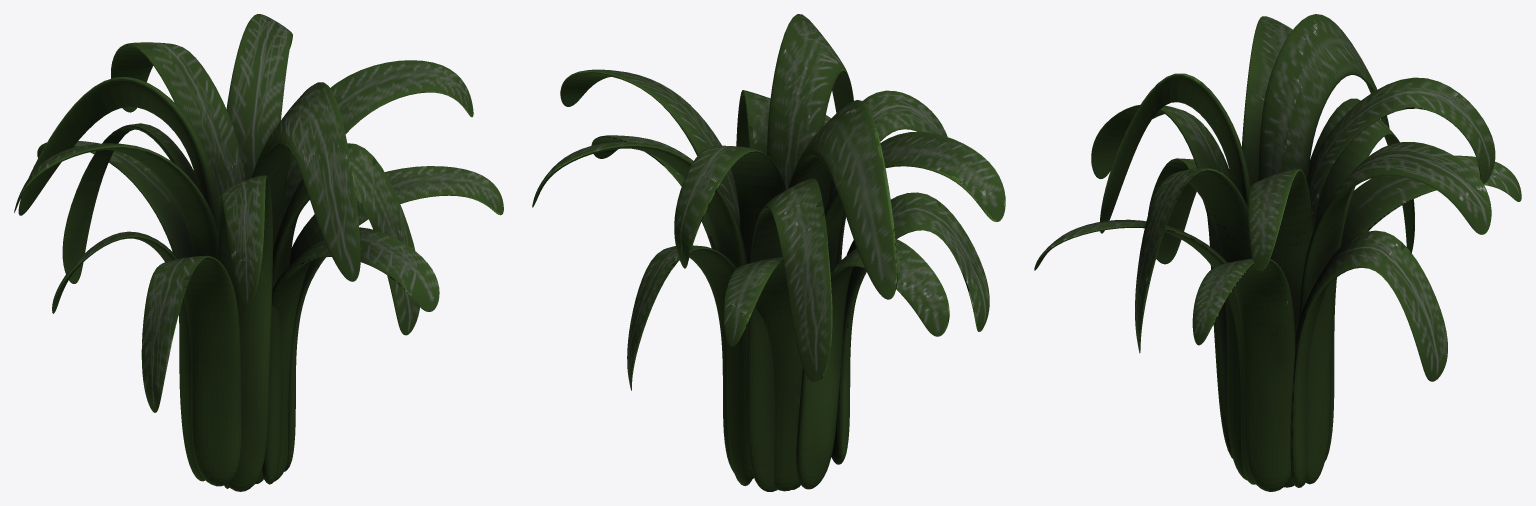
Rendered from plant1.fbx.
3 renders of one model, left to right at view 1: azimuth 30°, elevation 25°; view 2: azimuth 150°, elevation 25°; view 3: azimuth 270°, elevation 25°, orthographic.
Visible parts, largest first — view 1: Plant; view 2: Plant; view 3: Plant.
Part boxes in pixels (bbox=[...]): Plant: bbox=[14, 14, 503, 491]; Plant: bbox=[532, 14, 1005, 491]; Plant: bbox=[1034, 14, 1521, 491].
Size of the model in its own units: 91.83 by 83.34 by 86.55.
1 material, 1 textured.
